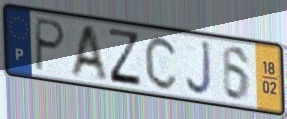6: (220, 45, 252, 103)
A: (67, 24, 110, 81)
C: (143, 33, 180, 92)
J: (185, 40, 215, 99)
P: (33, 15, 68, 74)
Z: (108, 26, 144, 89)
